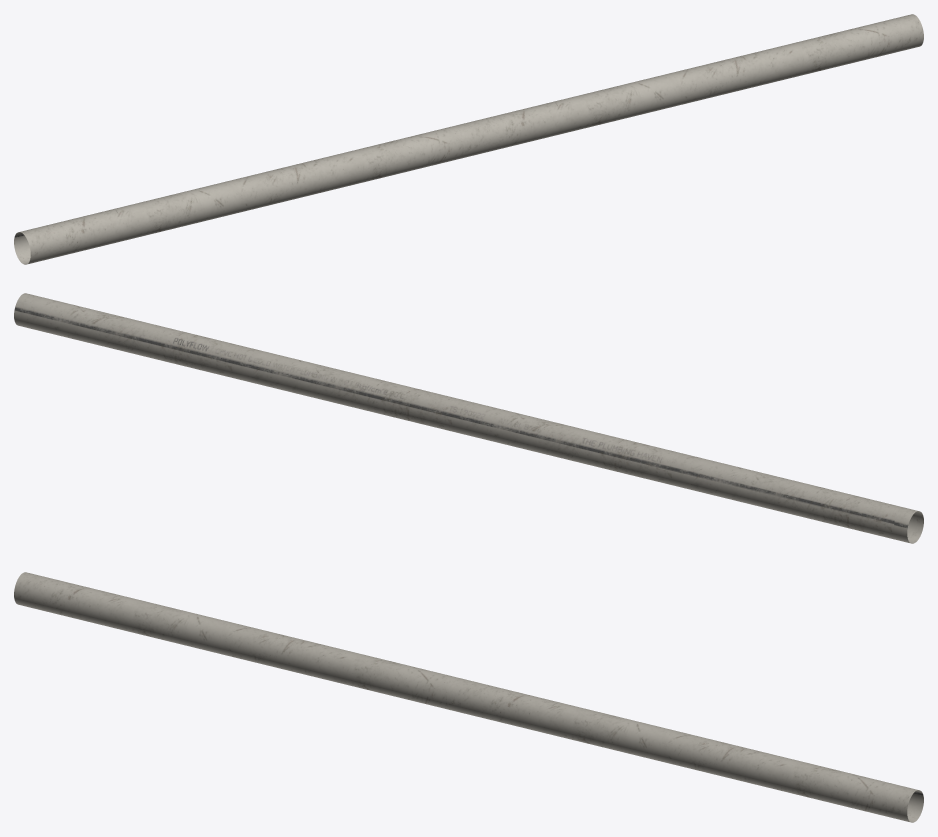
The model's file is PipePlastic.fbx.
The picture shows the model from 3 angles, top to bottom: view 1: azimuth 30°, elevation 25°; view 2: azimuth 150°, elevation 25°; view 3: azimuth 330°, elevation 25°; orthographic projection.
Visible parts, largest first — view 1: straight_pvc_pipe_01.002; view 2: straight_pvc_pipe_01.002; view 3: straight_pvc_pipe_01.002.
Part boxes in pixels (x1=…): straight_pvc_pipe_01.002: x1=14, y1=14, x2=923, y2=264; straight_pvc_pipe_01.002: x1=14, y1=293, x2=923, y2=543; straight_pvc_pipe_01.002: x1=14, y1=572, x2=923, y2=822.
Size of the model in its own units: 81.25 by 2.64 by 2.64.
